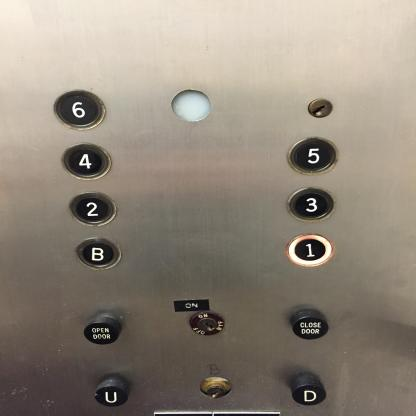1: (286, 232, 335, 267)
2: (68, 189, 117, 226)
3: (286, 186, 336, 222)
4: (61, 142, 112, 180)
5: (286, 137, 338, 174)
6: (53, 89, 105, 130)
B: (75, 236, 121, 270)
D: (290, 375, 326, 405)
U: (93, 380, 128, 406)
empty: (168, 88, 214, 122)
keyhole: (189, 310, 225, 336), (199, 372, 232, 400), (306, 96, 334, 119)
text: (83, 314, 121, 345), (291, 310, 328, 340)
